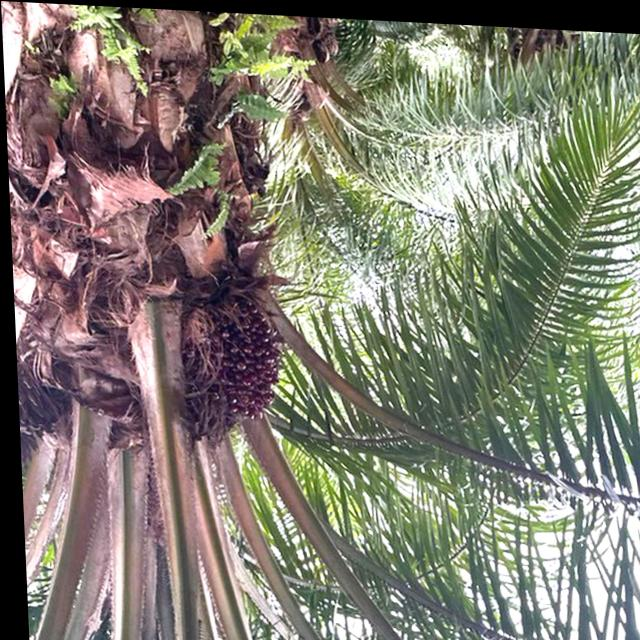ripe: (186, 284, 282, 427)
